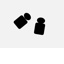human: (12, 11, 31, 29), (33, 16, 46, 36)
